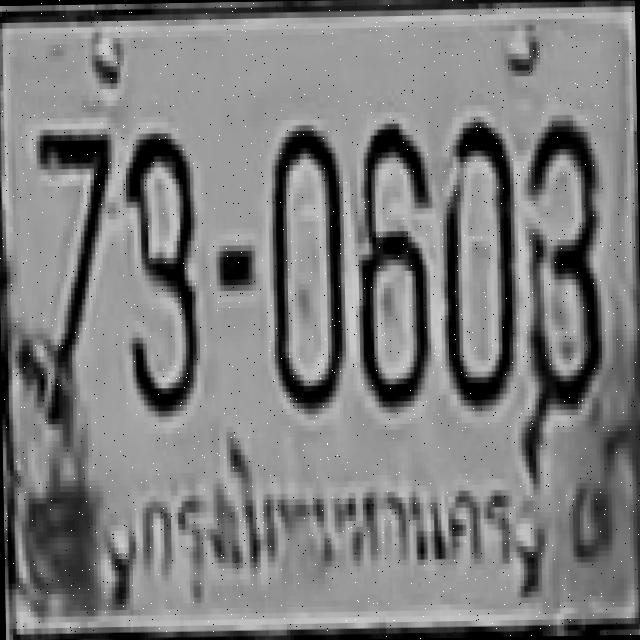0: (437, 116, 517, 406), (268, 119, 344, 408)
3: (521, 117, 601, 407), (123, 130, 199, 414)
6: (354, 117, 434, 407)
7: (34, 126, 114, 427), (36, 128, 114, 340)
Bangkok: (126, 452, 535, 610)
